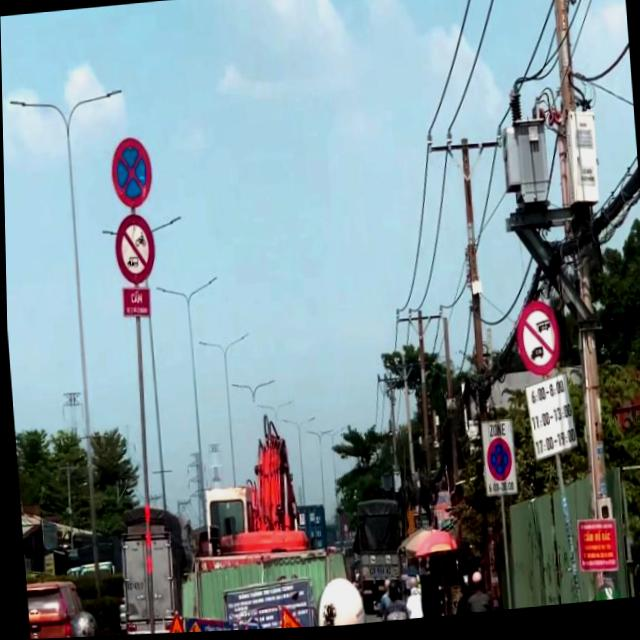Cam dung xe va do xe: (109, 138, 154, 211), (484, 441, 510, 487)
